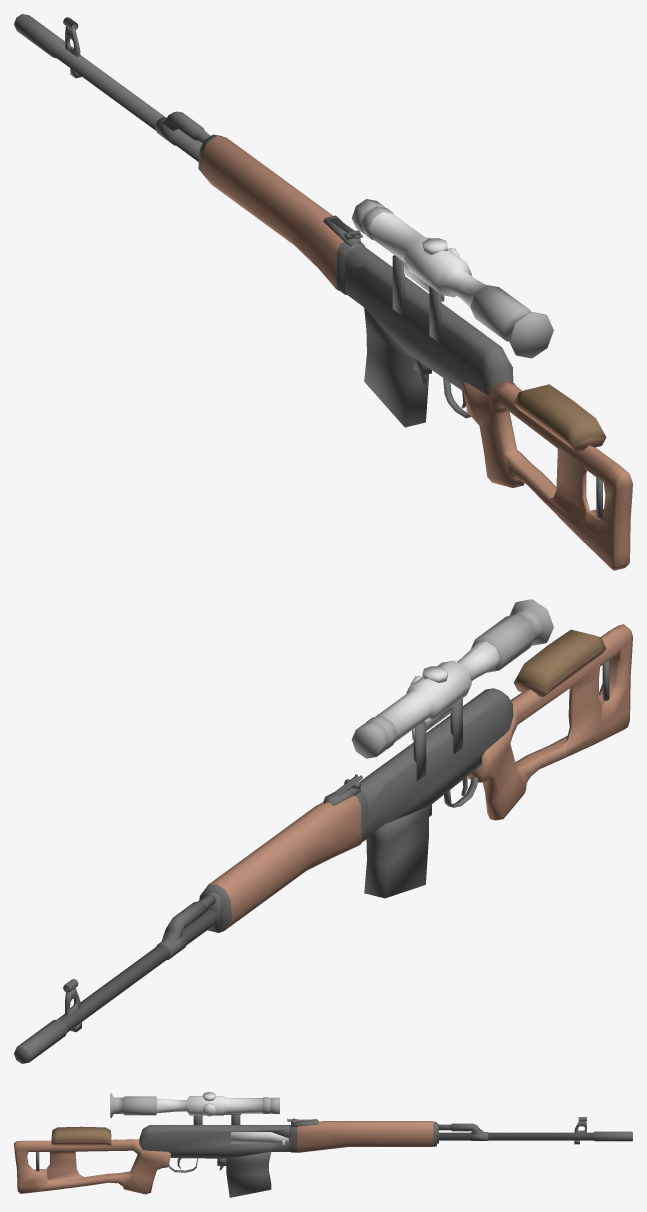
The model's file is dragunov.glb.
3 views of the same model, one above another, from view 1: azimuth 30°, elevation 25°; view 2: azimuth 150°, elevation 25°; view 3: azimuth 270°, elevation 25° (orthographic). The views are drawn at different scales.
Parts seen in each view (by area): view 1: Cube; view 2: Cube; view 3: Cube.
Boxes of the visible parts, box(x1,y1,x2,y2) form: Cube: box(14, 14, 632, 570); Cube: box(14, 599, 632, 1063); Cube: box(14, 1092, 632, 1197).
Size of the model in its own units: 0.4459 by 1.8 by 9.98.
